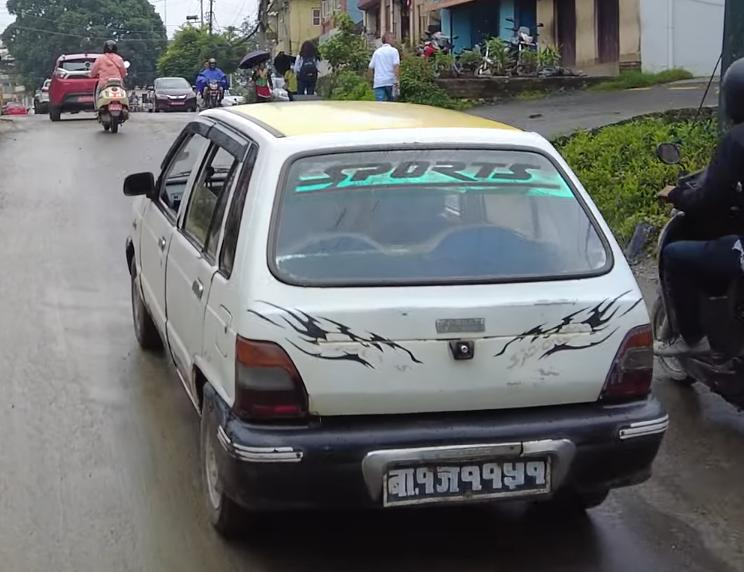bike: (495, 17, 550, 73), (195, 73, 228, 111)
car: (146, 73, 201, 113)
scooter: (643, 131, 744, 418), (88, 59, 138, 137)
taxi: (102, 90, 680, 549)
